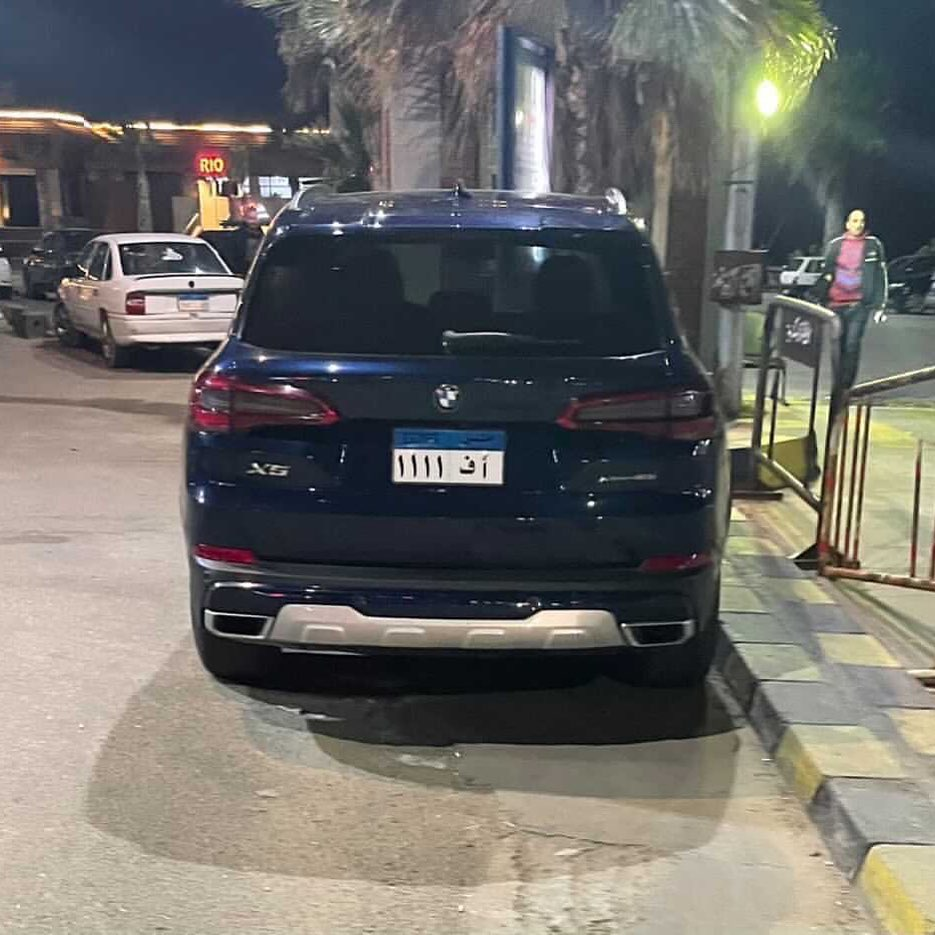carpl: (389, 426, 511, 491)
